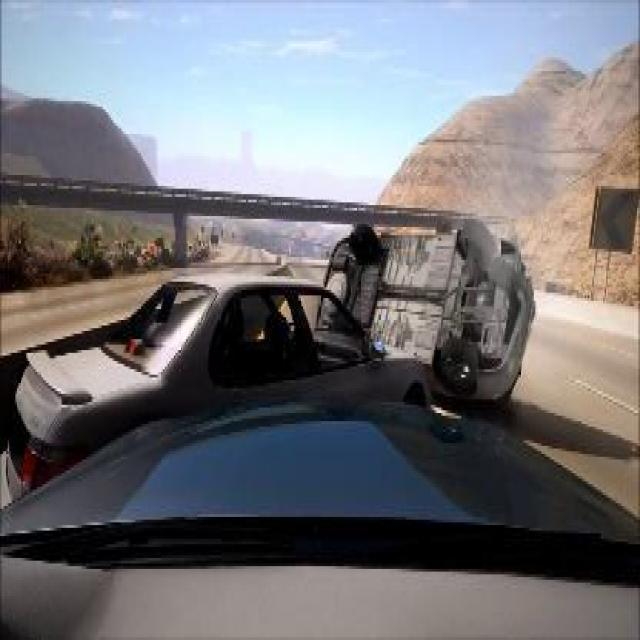accident: (310, 208, 538, 418)
